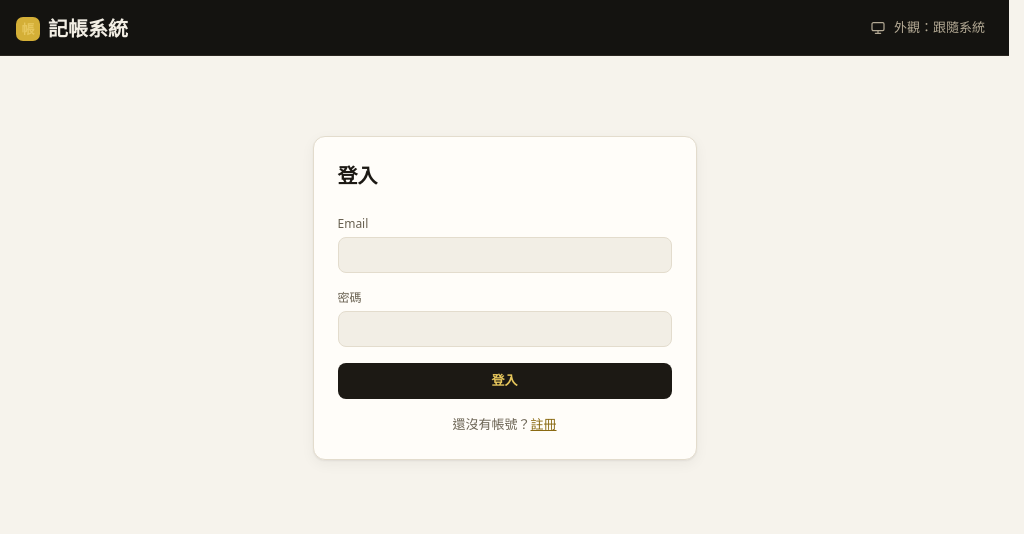
Test case: LoginPage › explains a network failure without leaking internals
This screenshot has width=1024, height=534.
Type "alice@example.com" into the field labelled "Email" at (504, 255), box x1=338 y1=237 x2=672 y2=273
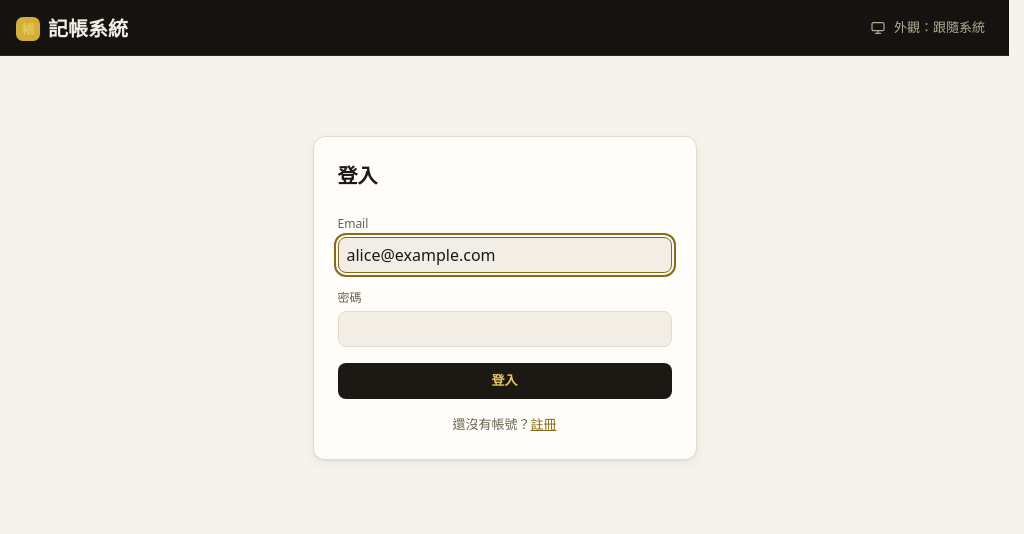
Type "sup3rsecret" into the password field labelled "密碼" at (504, 329), box x1=338 y1=311 x2=672 y2=347
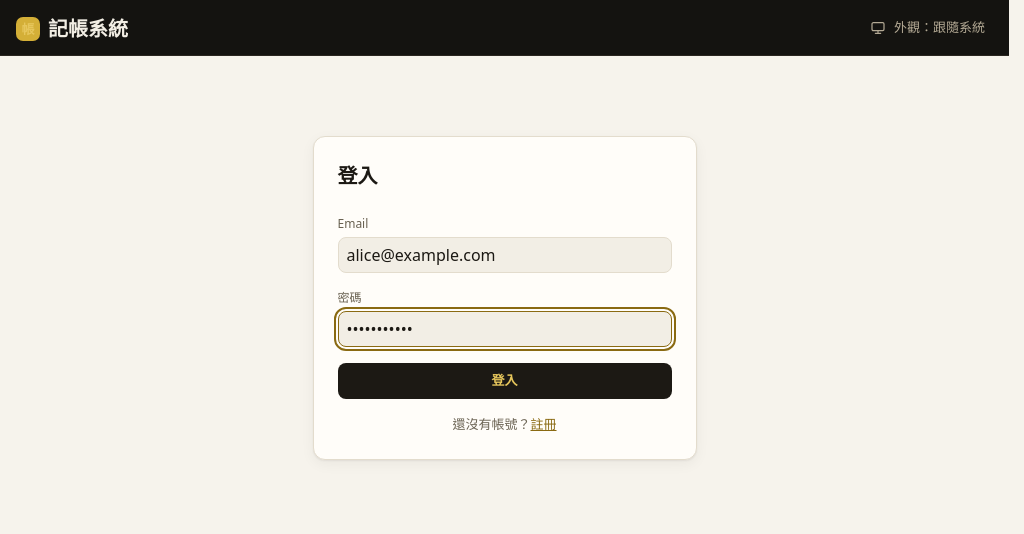
Click the button "登入" at (504, 381), box x1=338 y1=363 x2=672 y2=399
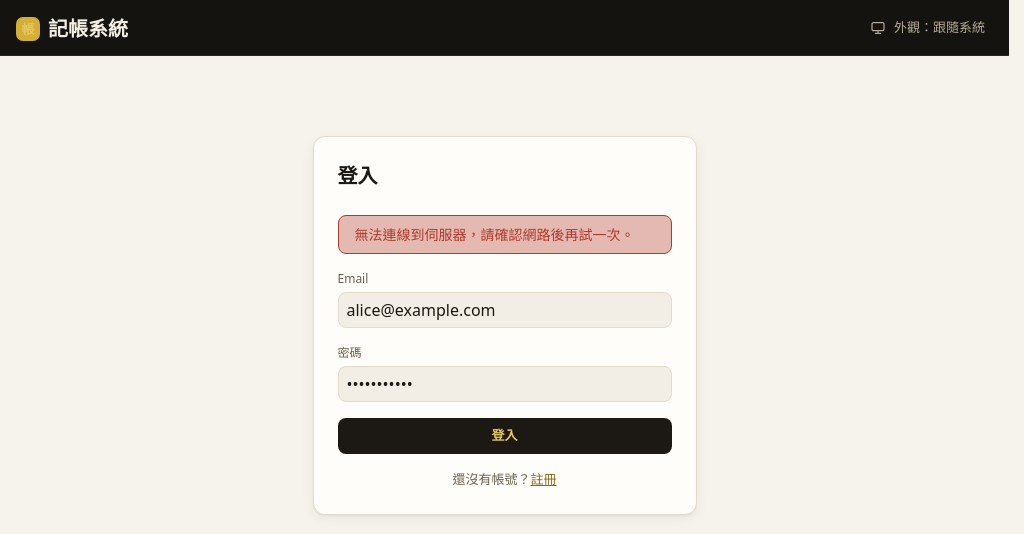
Result: the message shows "無法連線到伺服器" at x1=354 y1=225 x2=634 y2=244
